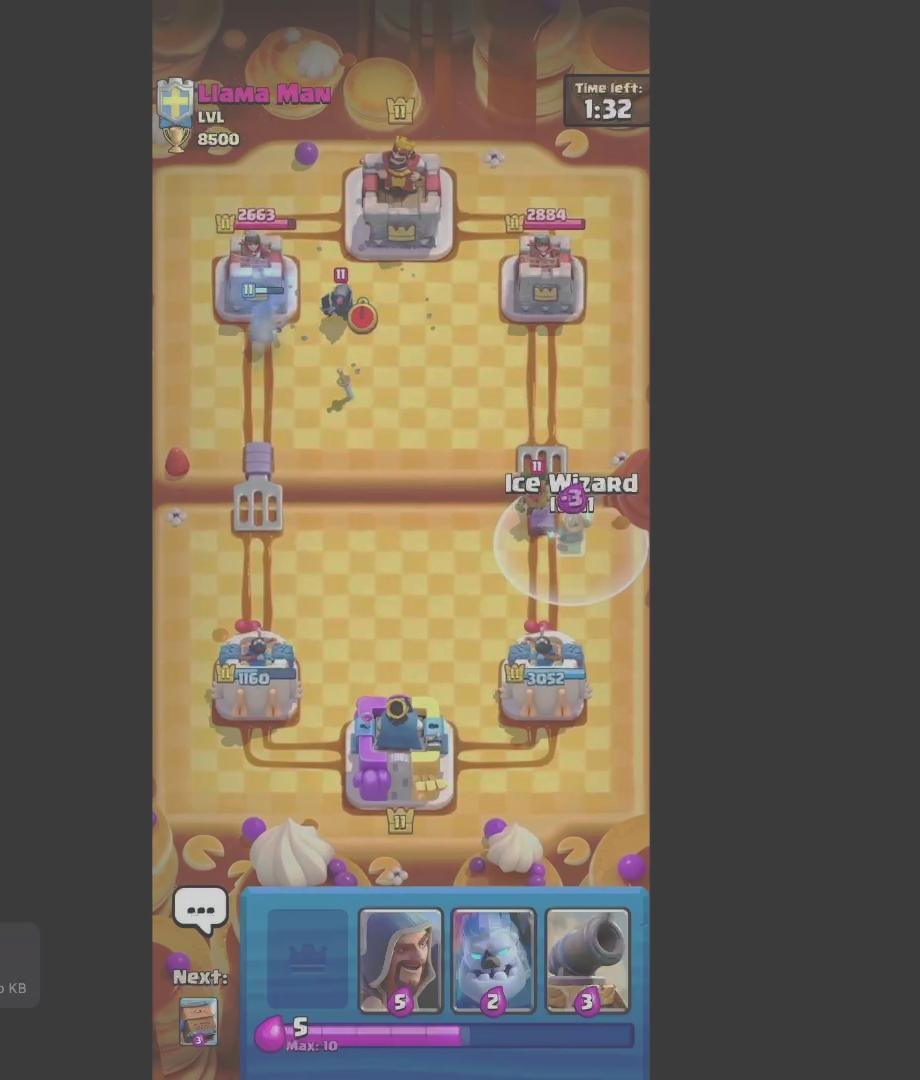Dart Goblin: (503, 456, 560, 518)
Mini Pekka: (315, 259, 373, 329)
